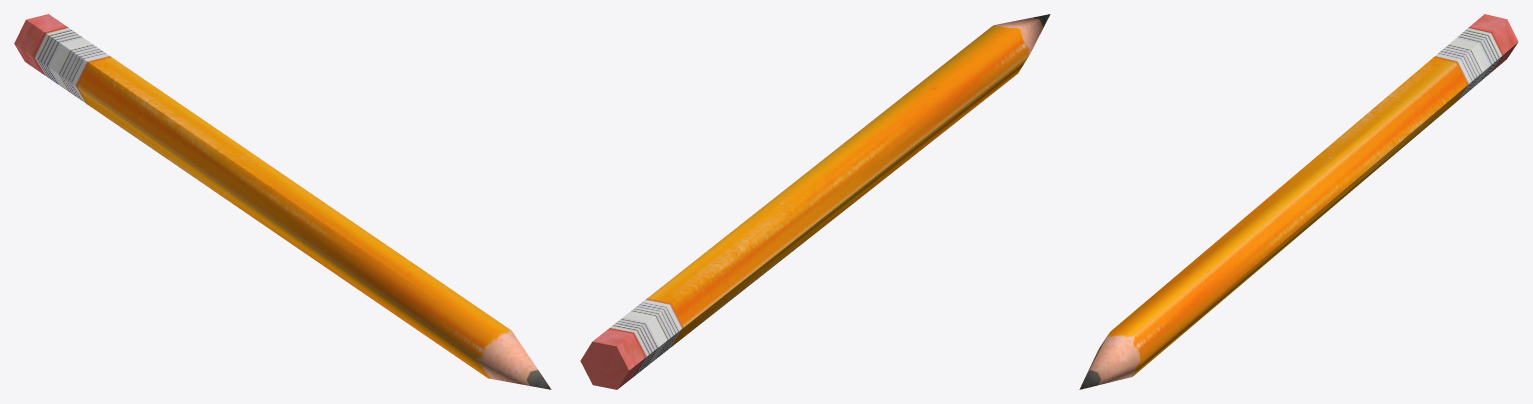
File: SM_Pencil.fbx
3 renders of one model, left to right at view 1: azimuth 30°, elevation 25°; view 2: azimuth 150°, elevation 25°; view 3: azimuth 330°, elevation 25°, orthographic. The views are drawn at different scales.
Visible parts, largest first — view 1: Pencil_Zero; view 2: Pencil_Zero; view 3: Pencil_Zero.
Part boxes in pixels (left/top/right/bottom): Pencil_Zero: left=14, top=14, right=551, bottom=389; Pencil_Zero: left=580, top=14, right=1050, bottom=389; Pencil_Zero: left=1079, top=14, right=1518, bottom=389.
Size of the model in its own units: 2.18 by 1.39 by 22.1.
1 material, 1 textured.
